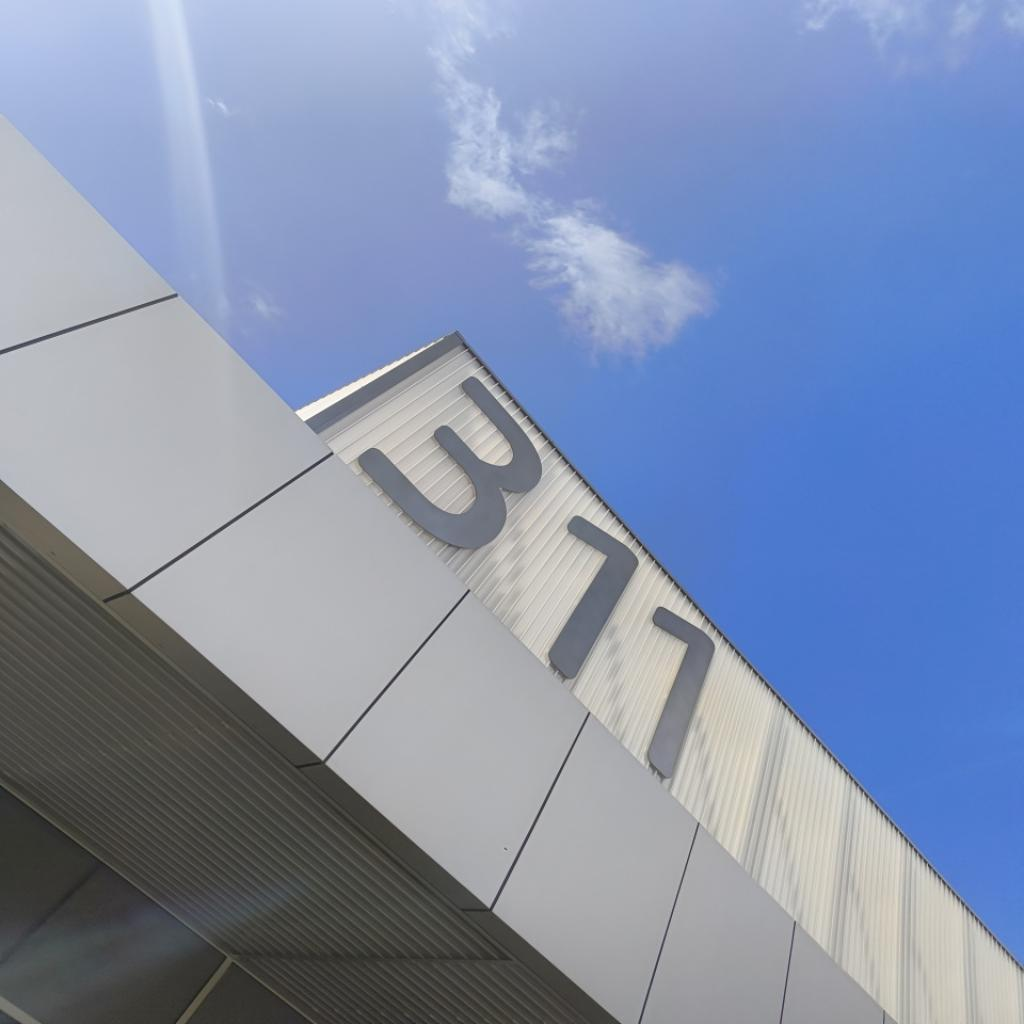BuildingCodes: (352, 370, 728, 784)
